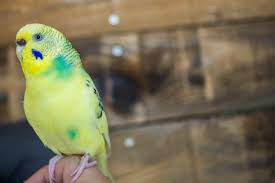budgie: (14, 22, 113, 179)
